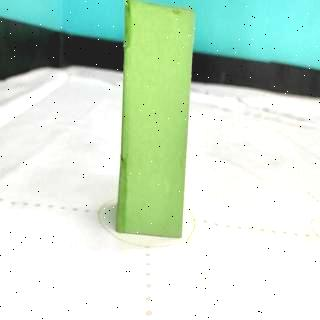greenbox: (118, 0, 196, 238)
